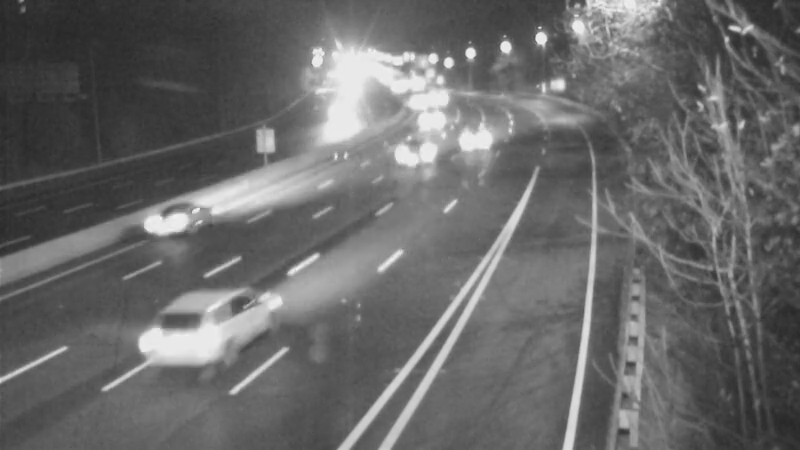vehicle: (117, 281, 227, 391), (381, 112, 461, 192), (135, 175, 215, 255), (410, 72, 460, 122), (392, 75, 442, 125), (406, 97, 456, 147), (447, 110, 497, 160), (320, 85, 370, 135)
